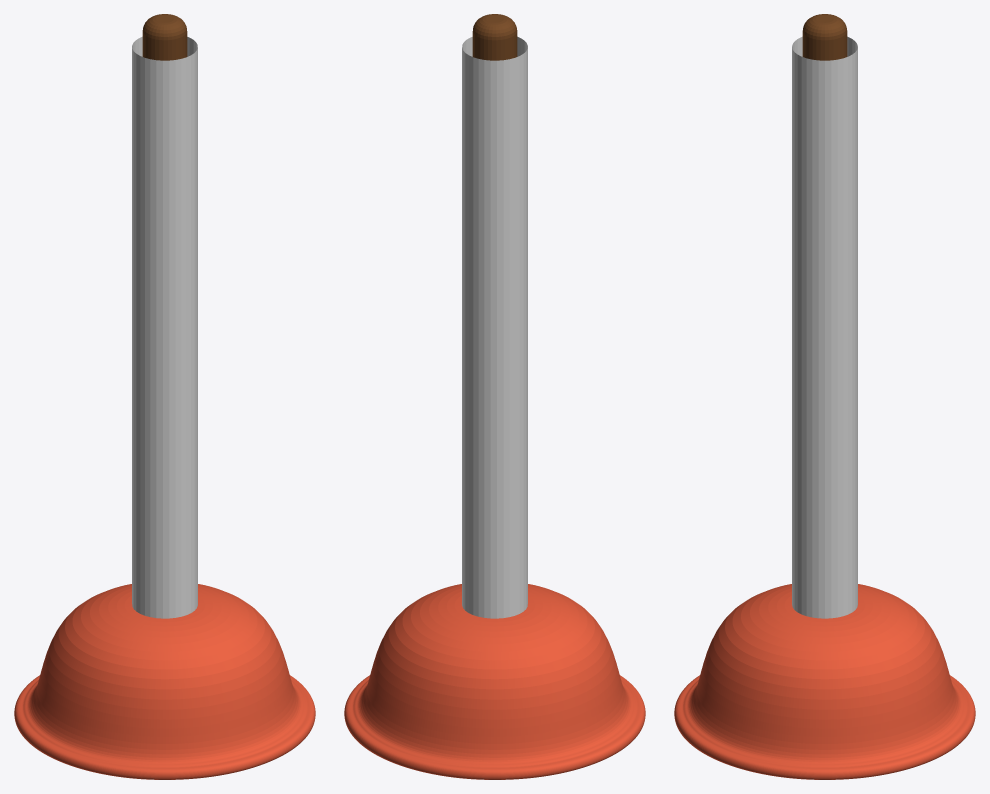
Rendered from Ventouse_a_chiotte.fbx.
3 renders of one model, left to right at view 1: azimuth 30°, elevation 25°; view 2: azimuth 150°, elevation 25°; view 3: azimuth 270°, elevation 25°, orthographic.
Visible parts, largest first — view 1: Circle, Circle.001; view 2: Circle, Circle.001; view 3: Circle, Circle.001.
Part boxes in pixels (x1,y1,x2,y2): Circle: [14, 14, 315, 779]; Circle.001: [132, 36, 197, 618]; Circle: [344, 14, 645, 779]; Circle.001: [462, 36, 527, 618]; Circle: [674, 14, 975, 779]; Circle.001: [792, 36, 857, 618].
Size of the model in its own units: 23.97 by 61.48 by 23.97.
